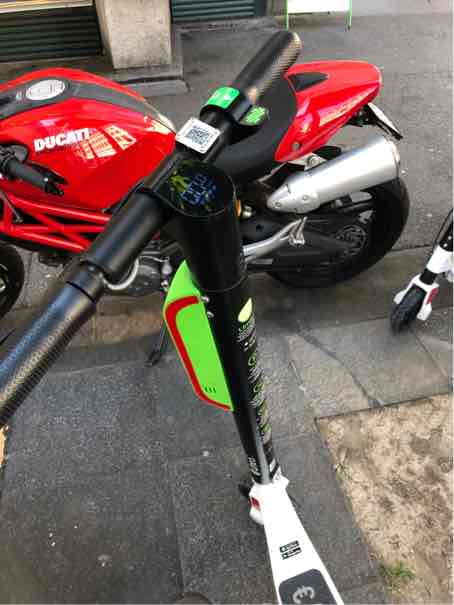scooter: (51, 40, 437, 605)
